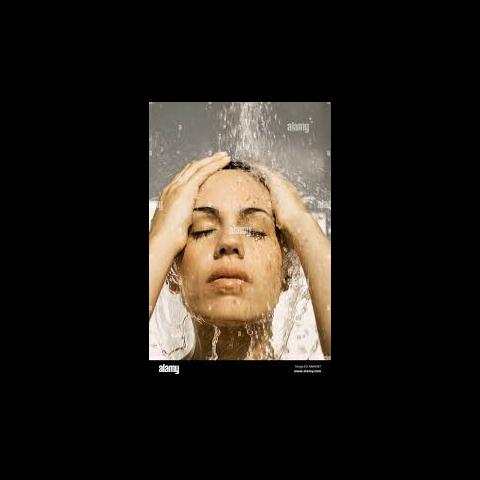closed: (180, 196, 280, 249)
